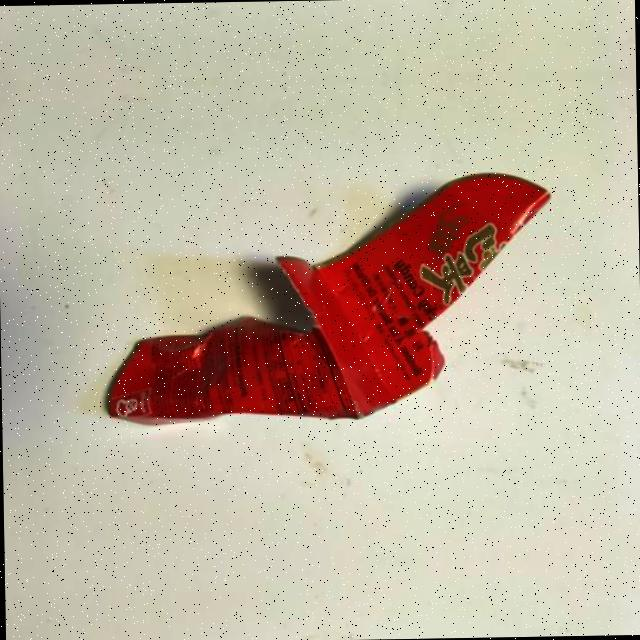paper: (91, 125, 640, 452), (88, 0, 634, 33)
